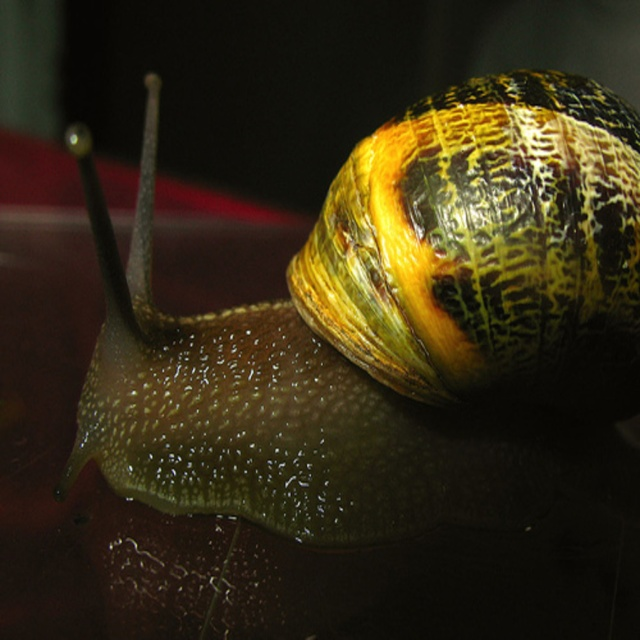Snail: (56, 60, 639, 548)
